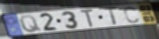2: (39, 12, 60, 33)
3: (61, 11, 80, 30)
C: (123, 6, 140, 24)
Q: (19, 15, 44, 34)
T: (79, 8, 96, 29), (102, 6, 119, 26)
